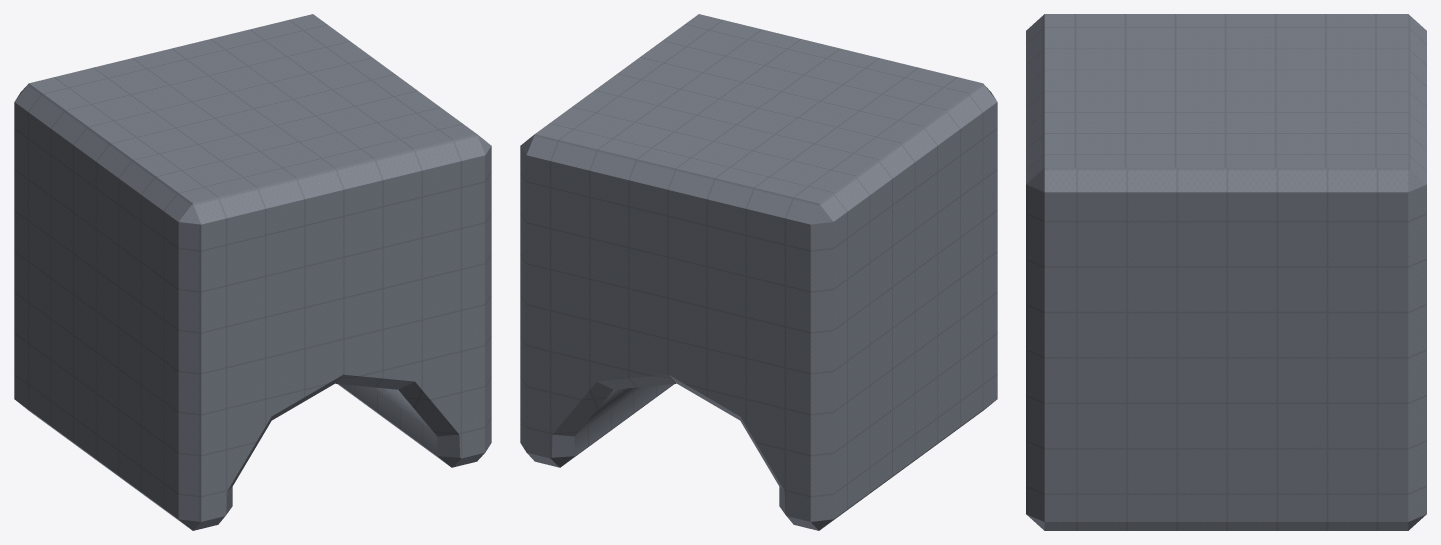
File: R4B_Arch_LOD1.glb
The picture shows the model from 3 angles, left to right: view 1: azimuth 30°, elevation 25°; view 2: azimuth 150°, elevation 25°; view 3: azimuth 270°, elevation 25°; orthographic projection. The views are drawn at different scales.
Parts seen in each view (by area): view 1: R4B_Arch_LOD1; view 2: R4B_Arch_LOD1; view 3: R4B_Arch_LOD1.
Part boxes in pixels (x1=…): R4B_Arch_LOD1: x1=14, y1=14, x2=491, y2=530; R4B_Arch_LOD1: x1=520, y1=14, x2=997, y2=530; R4B_Arch_LOD1: x1=1026, y1=14, x2=1426, y2=530.
Size of the model in its own units: 0.52 by 0.52 by 0.52.
Materials: 1 (1 with a texture image).
